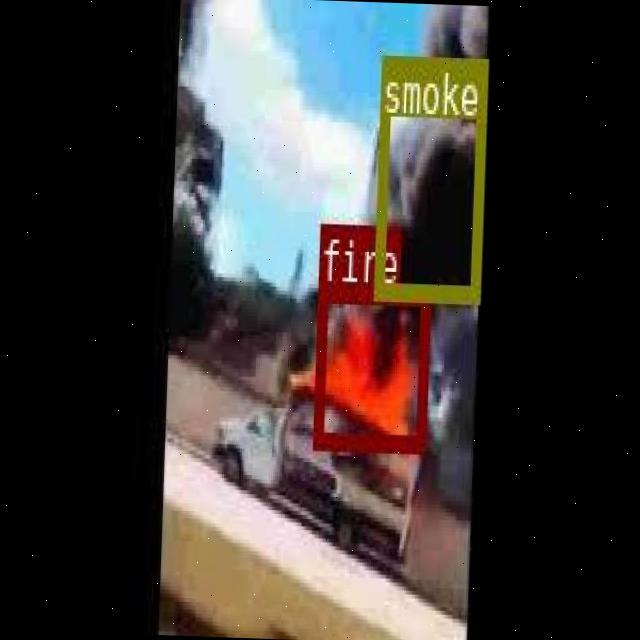fire: (310, 282, 428, 448)
smoke: (373, 54, 484, 299)
